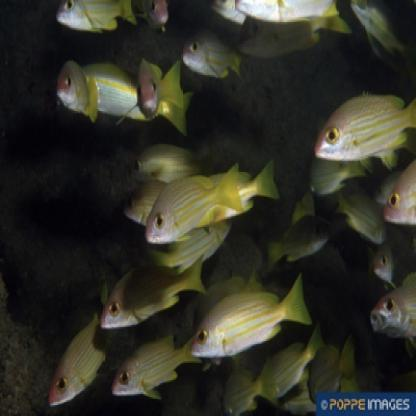snapper: (189, 265, 315, 358), (145, 159, 246, 250), (96, 256, 208, 328), (311, 96, 415, 170), (48, 320, 123, 406), (111, 340, 205, 406), (131, 51, 189, 121), (49, 54, 103, 126)
